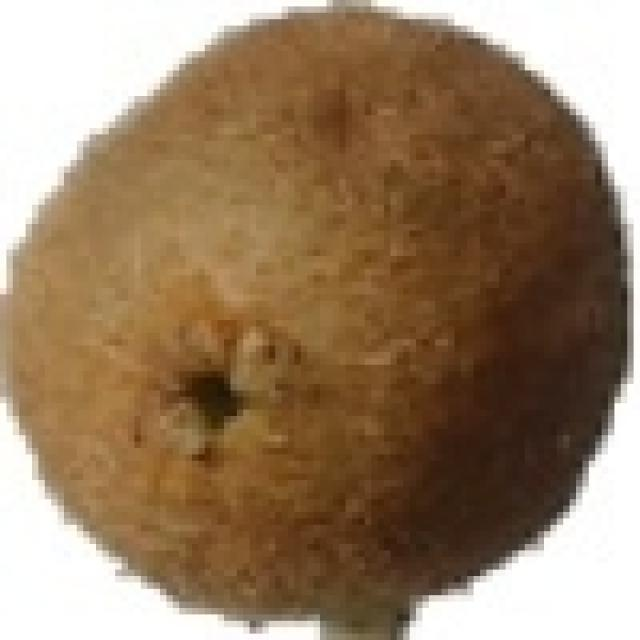kiwi: (11, 11, 627, 640)
